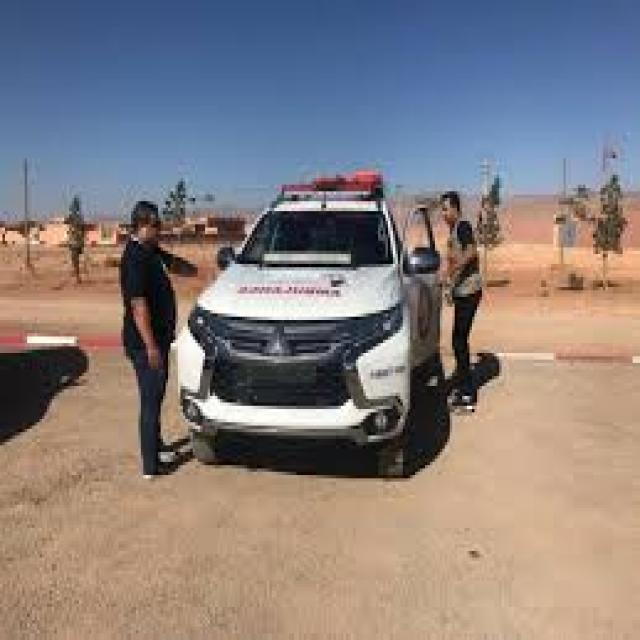ambulance: (178, 152, 448, 492)
